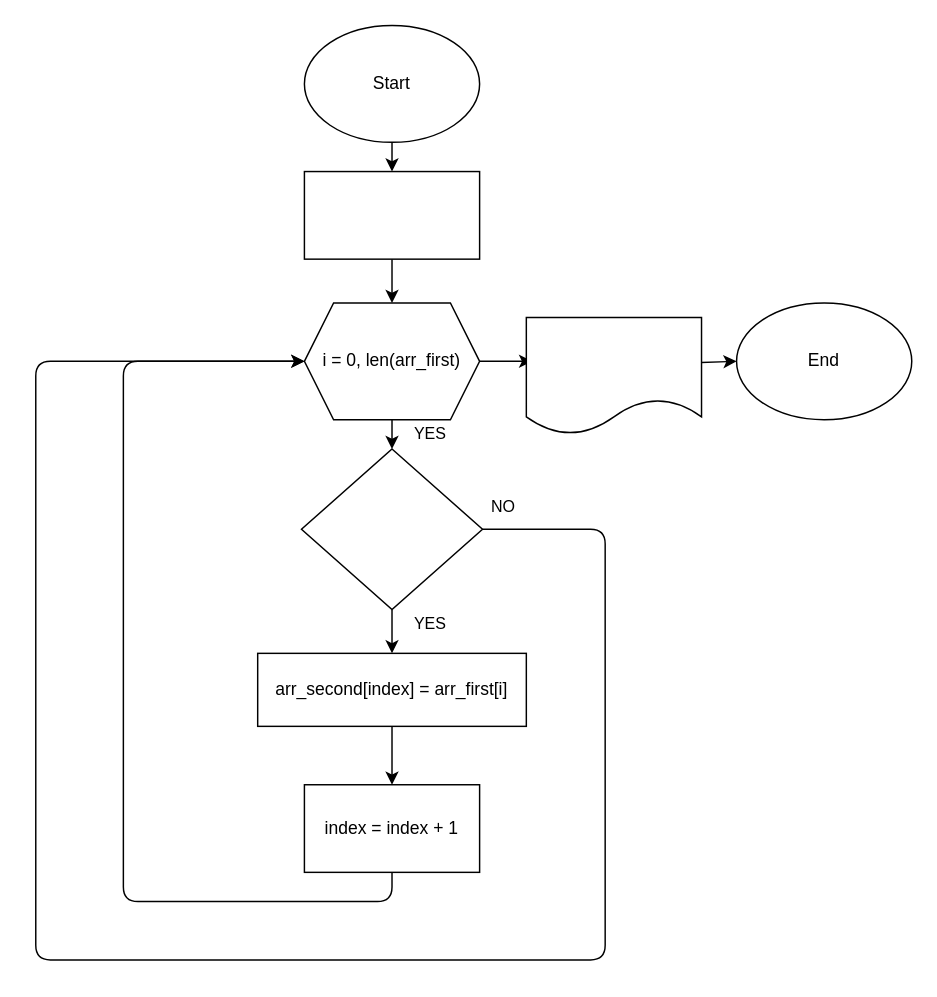
Image size: 937x997. Some labels were removed from this diagram. Each missing label, with the centre of its shape:
"len(arr_first[i]) < 4" goes at pixel 391 528.
"return arr_second" goes at pixel 613 375.
"string[] arr_first string[] arr_second int index = 0" goes at pixel 391 214.
